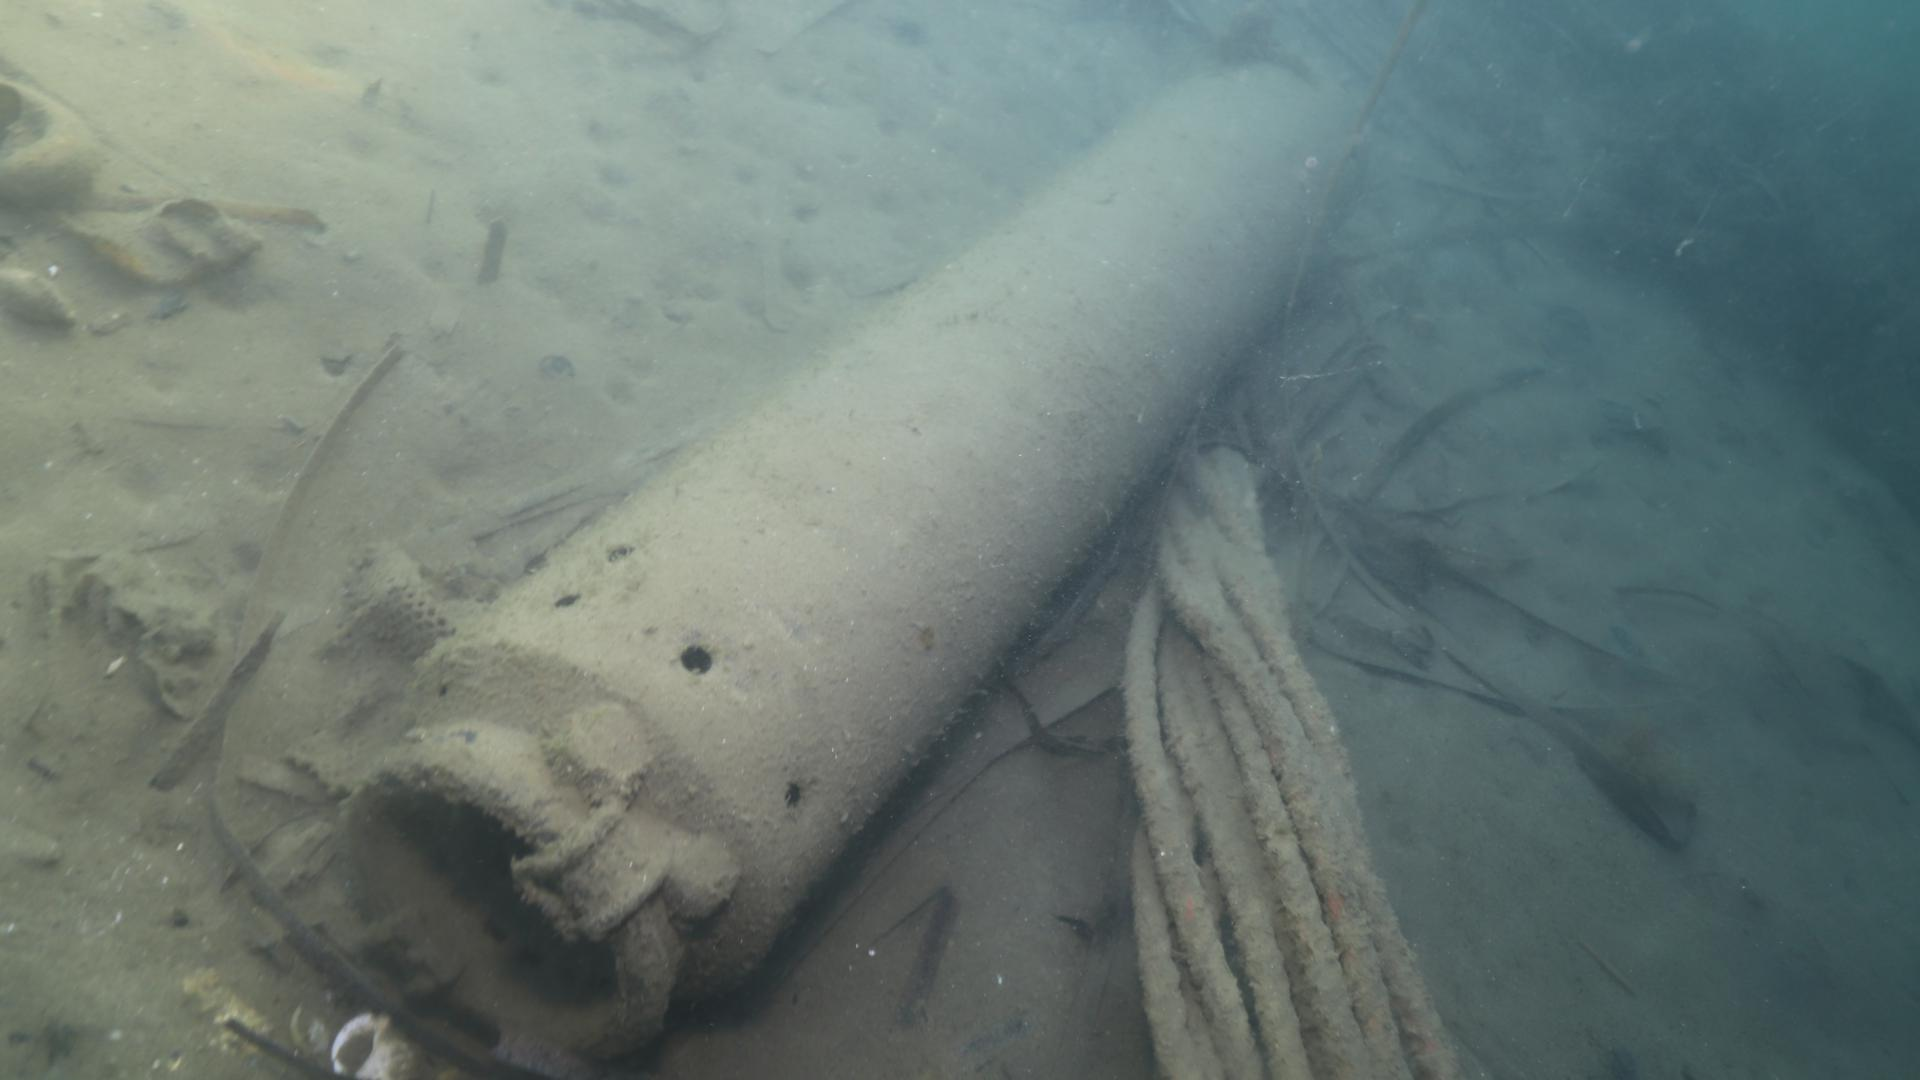bundle of ropes: (1117, 442, 1478, 1080)
eel fish trap: (336, 63, 1358, 1079)
